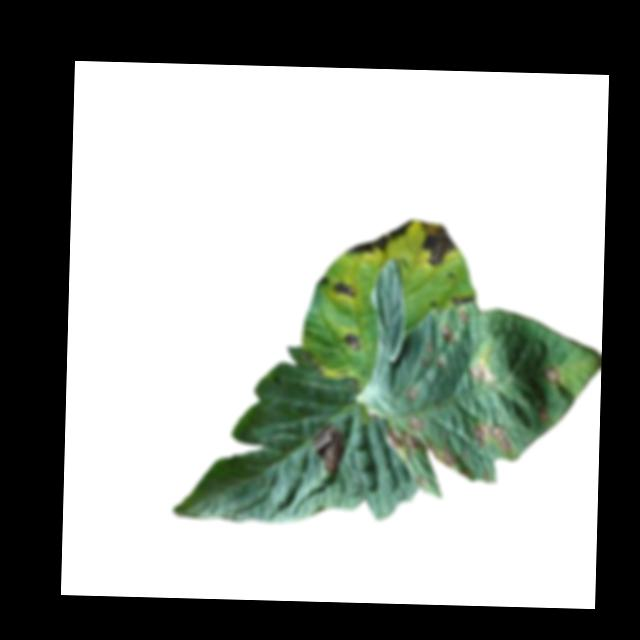Early_blight: (348, 217, 415, 256), (418, 219, 459, 268), (311, 422, 345, 475), (472, 422, 513, 456), (385, 426, 421, 458), (468, 363, 499, 387), (329, 280, 355, 298), (342, 333, 361, 352), (543, 365, 562, 384), (452, 294, 478, 307), (440, 446, 455, 466), (440, 325, 453, 343), (410, 417, 423, 432), (456, 309, 467, 325)
